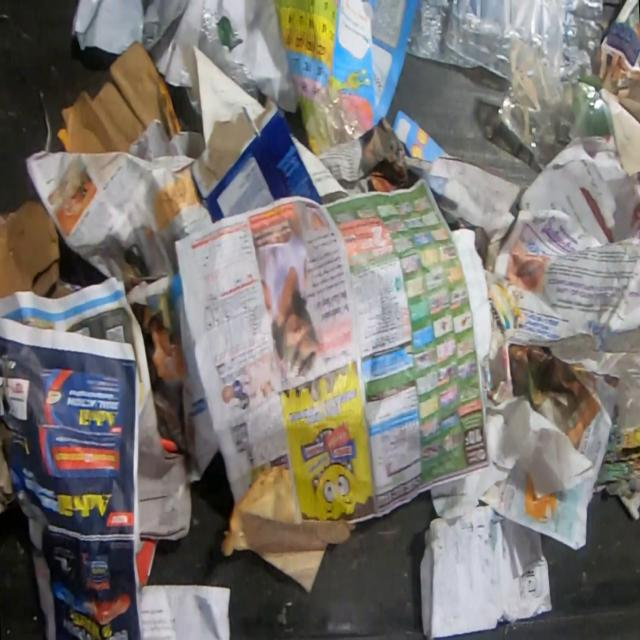cardboard: (188, 95, 323, 224), (55, 38, 184, 154), (0, 196, 78, 300), (139, 450, 193, 543)
soft_plastic: (362, 0, 606, 91), (495, 32, 616, 173), (194, 4, 261, 104), (309, 81, 368, 155), (141, 0, 192, 66)
